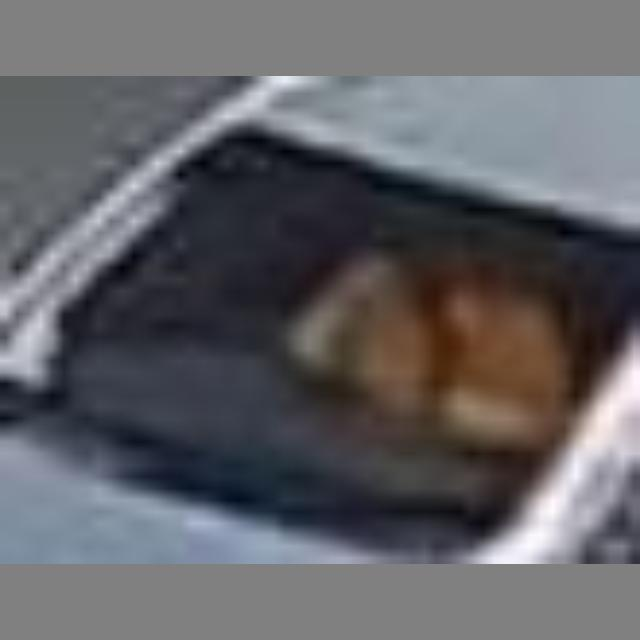pakai: (268, 227, 570, 460)
